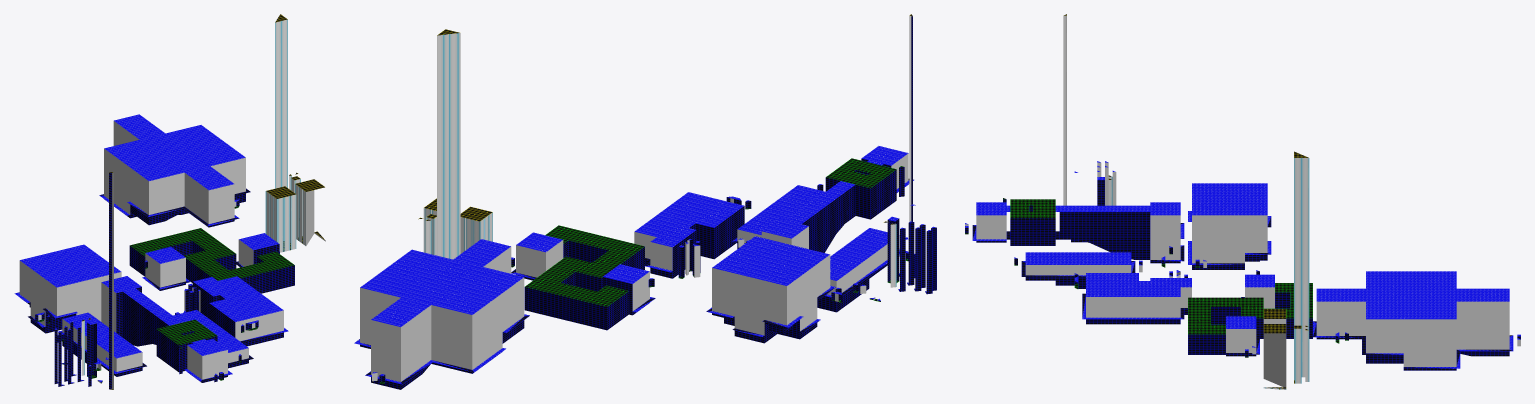
The model's file is MAPZ0.fbx.
The picture shows the model from 3 angles, left to right: view 1: azimuth 30°, elevation 25°; view 2: azimuth 150°, elevation 25°; view 3: azimuth 270°, elevation 25°; orthographic projection. The views are drawn at different scales.
Visible parts, largest first — view 1: MAPZ0; view 2: MAPZ0; view 3: MAPZ0.
Boxes of the visible parts, box(x1,y1,x2,y2) form: MAPZ0: box(14, 14, 325, 389); MAPZ0: box(354, 14, 936, 389); MAPZ0: box(965, 14, 1520, 389).
Bounding box in the file's own units: 69760 × 40980 × 94080.
